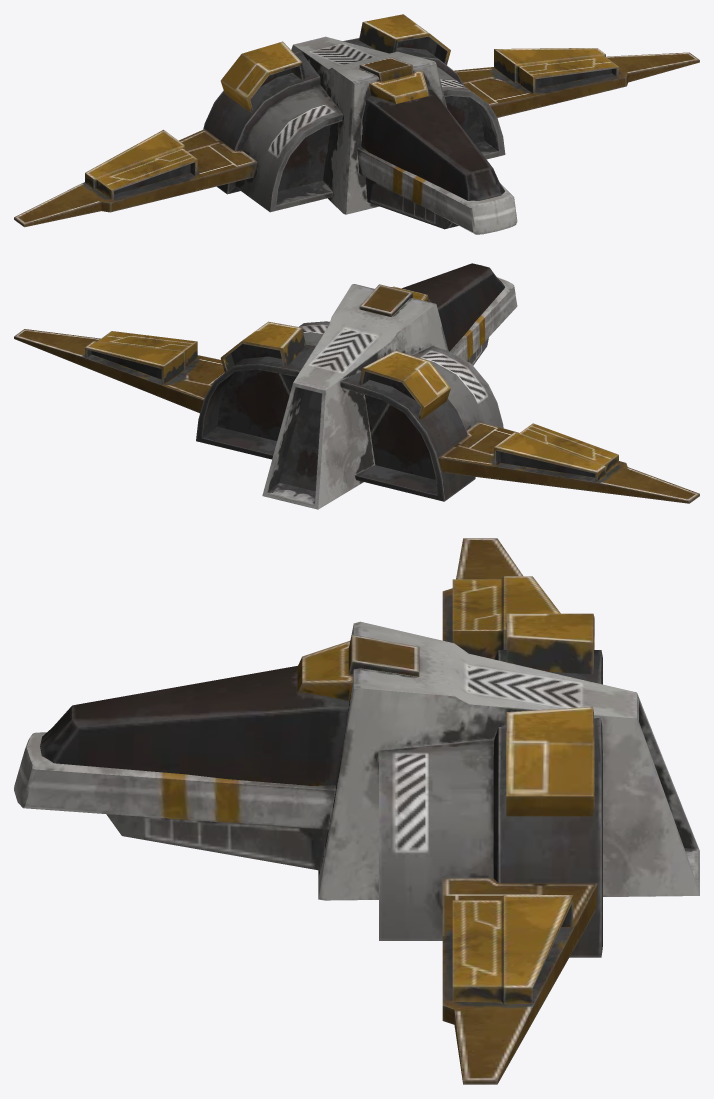
The model's file is Bob.glb.
The picture shows the model from 3 angles, top to bottom: view 1: azimuth 30°, elevation 25°; view 2: azimuth 150°, elevation 25°; view 3: azimuth 270°, elevation 25°; orthographic projection. The views are drawn at different scales.
Visible parts, largest first — view 1: Bob; view 2: Bob; view 3: Bob.
Part boxes in pixels (bbox=[...]): Bob: bbox=[14, 14, 699, 234]; Bob: bbox=[14, 263, 699, 509]; Bob: bbox=[14, 538, 699, 1084].
Bounding box in the file's own units: 10.5 × 2.04 × 5.61.
1 material, 1 textured.
